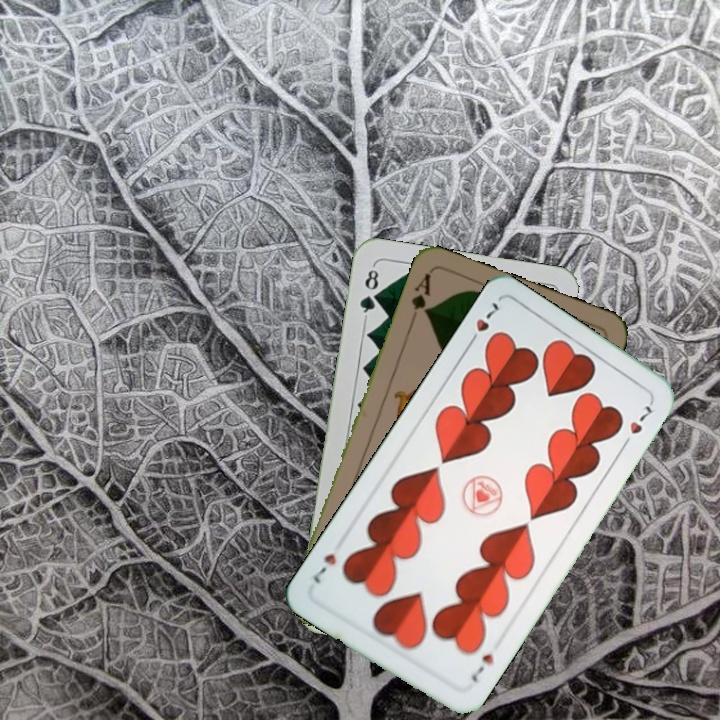G8: (355, 262, 381, 321)
GA: (407, 269, 433, 326)
H7: (463, 297, 501, 349), (466, 649, 496, 685)
